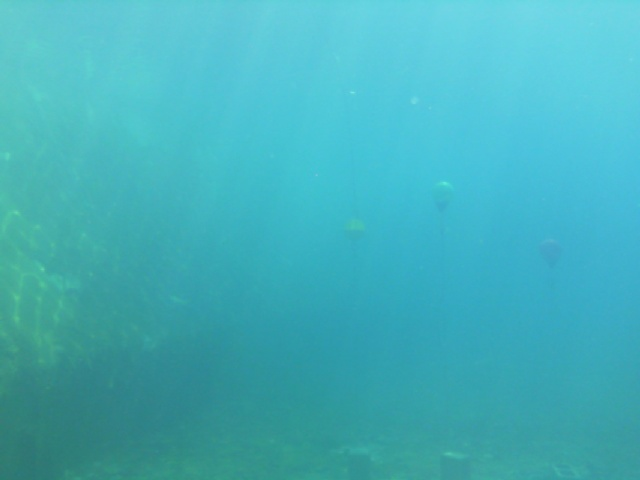buoy_green: (432, 181, 457, 213)
buoy_red: (537, 235, 567, 272)
buoy_yellow: (347, 218, 366, 241)
